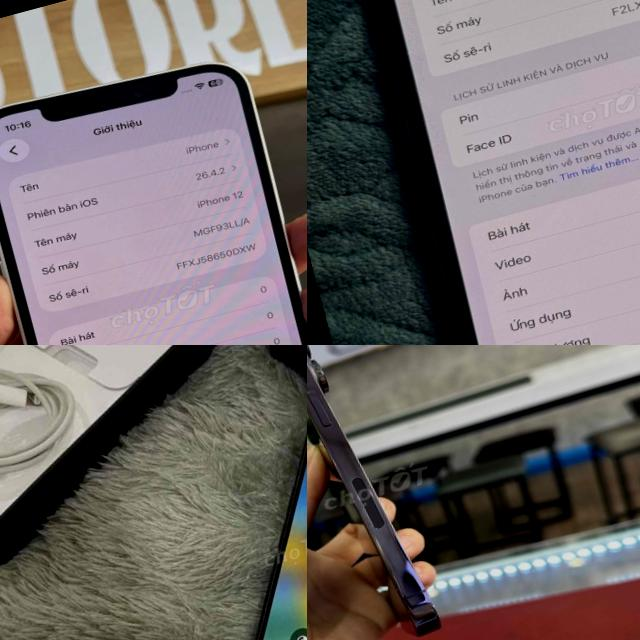gen_12_13: (0, 32, 307, 345), (162, 345, 307, 640)
gen_14: (307, 345, 456, 640)
gen_x_xs: (321, 0, 640, 345)
